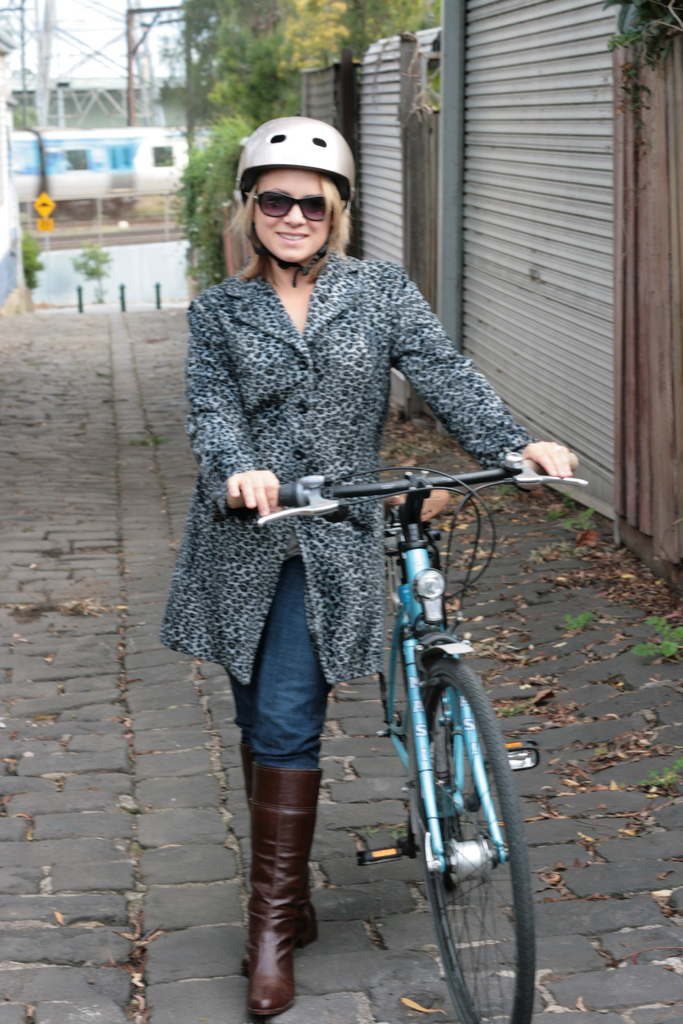Bike_toward: (224, 448, 594, 1024)
